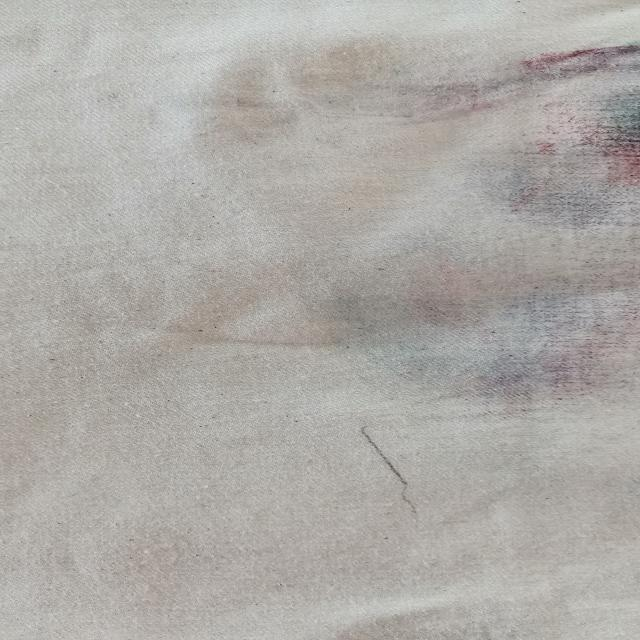taaaches: (151, 26, 640, 402), (338, 418, 428, 522)
